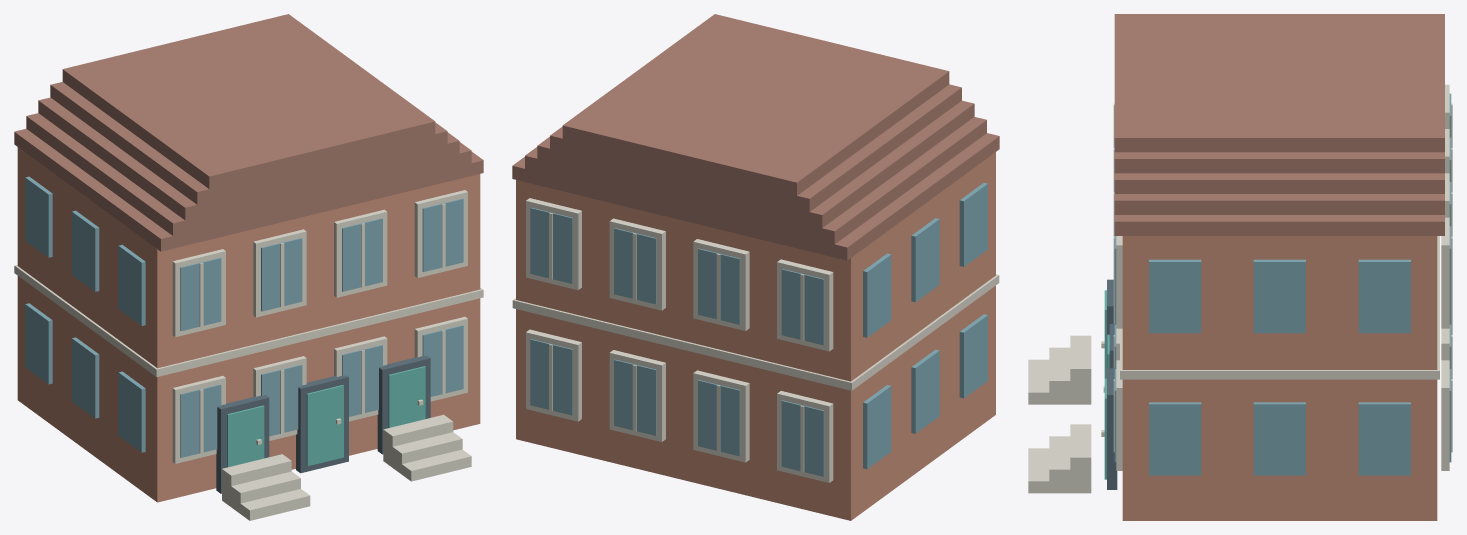
The picture shows the model from 3 angles, left to right: view 1: azimuth 30°, elevation 25°; view 2: azimuth 150°, elevation 25°; view 3: azimuth 270°, elevation 25°; orthographic projection. The views are drawn at different scales.
Parts seen in each view (by area): view 1: duplex-stoop-roof, duplex-stoop-brick, duplex-stoop-glass, duplex-stoop-concrete, duplex-stoop-accent, duplex-stoop-dark; view 2: duplex-stoop-brick, duplex-stoop-roof, duplex-stoop-glass, duplex-stoop-concrete; view 3: duplex-stoop-roof, duplex-stoop-brick, duplex-stoop-glass, duplex-stoop-concrete, duplex-stoop-dark, duplex-stoop-accent.
Part boxes in pixels (<box>): duplex-stoop-roof: <box>14,14,483,251</box>; duplex-stoop-brick: <box>17,147,480,502</box>; duplex-stoop-glass: <box>25,176,463,457</box>; duplex-stoop-concrete: <box>14,190,483,520</box>; duplex-stoop-accent: <box>227,366,425,467</box>; duplex-stoop-dark: <box>216,356,430,493</box>; duplex-stoop-brick: <box>516,152,995,520</box>; duplex-stoop-roof: <box>512,14,999,260</box>; duplex-stoop-glass: <box>530,182,987,476</box>; duplex-stoop-concrete: <box>512,198,999,482</box>; duplex-stoop-roof: <box>1114,14,1444,235</box>; duplex-stoop-brick: <box>1122,236,1437,520</box>; duplex-stoop-glass: <box>1114,93,1451,475</box>; duplex-stoop-concrete: <box>1028,84,1452,493</box>; duplex-stoop-dark: <box>1107,279,1117,489</box>; duplex-stoop-accent: <box>1104,290,1109,479</box>.
Size of the model in its own units: 8.2 by 7.5 by 8.1.
